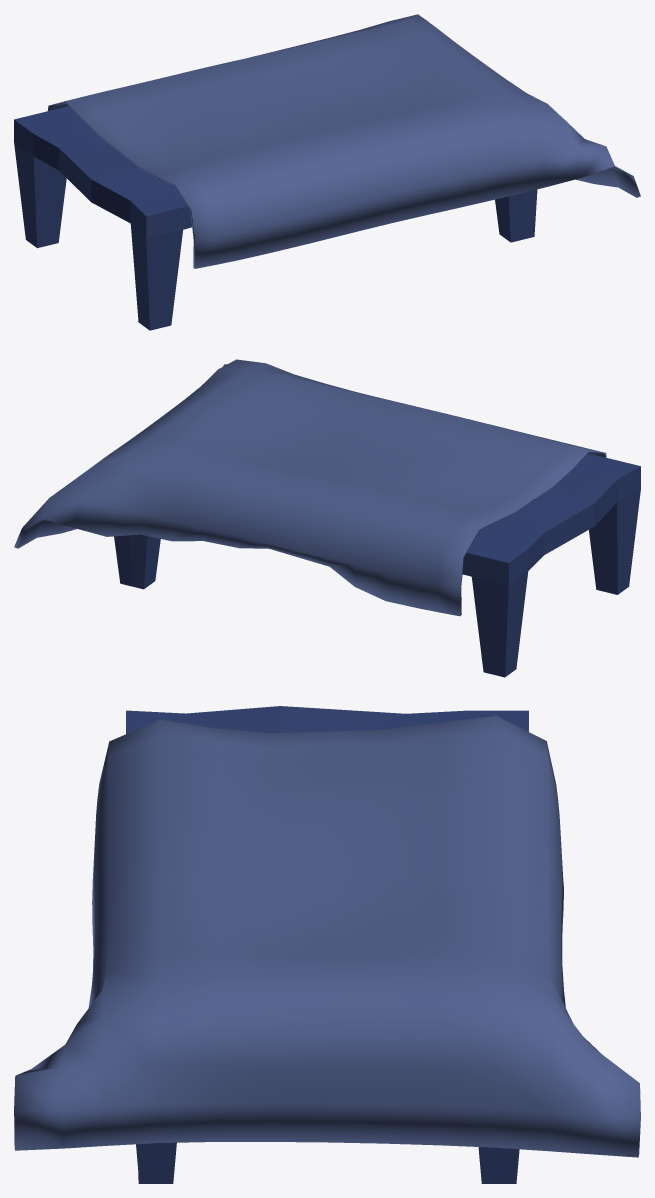
File: BedGameOff2024.fbx
3 views of the same model, one above another, from view 1: azimuth 30°, elevation 25°; view 2: azimuth 150°, elevation 25°; view 3: azimuth 270°, elevation 25° (orthographic). The views are drawn at different scales.
Visible parts, largest first — view 1: Cube.003, Cube.002; view 2: Cube.003, Cube.002; view 3: Cube.003, Cube.002.
Part boxes in pixels (bbox=[...]): Cube.003: bbox=[48, 14, 640, 268]; Cube.002: bbox=[14, 106, 537, 330]; Cube.003: bbox=[14, 359, 606, 616]; Cube.002: bbox=[114, 454, 640, 677]; Cube.003: bbox=[14, 716, 640, 1157]; Cube.002: bbox=[126, 706, 528, 1183].
Bounding box in the file's own units: 4.04 × 3.11 × 1.13.
